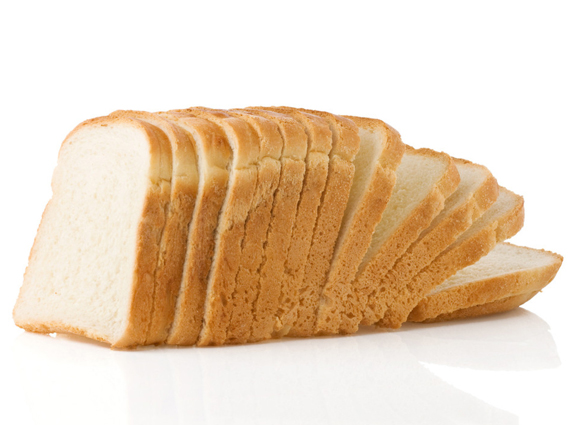slice of bread: (76, 119, 520, 308)
